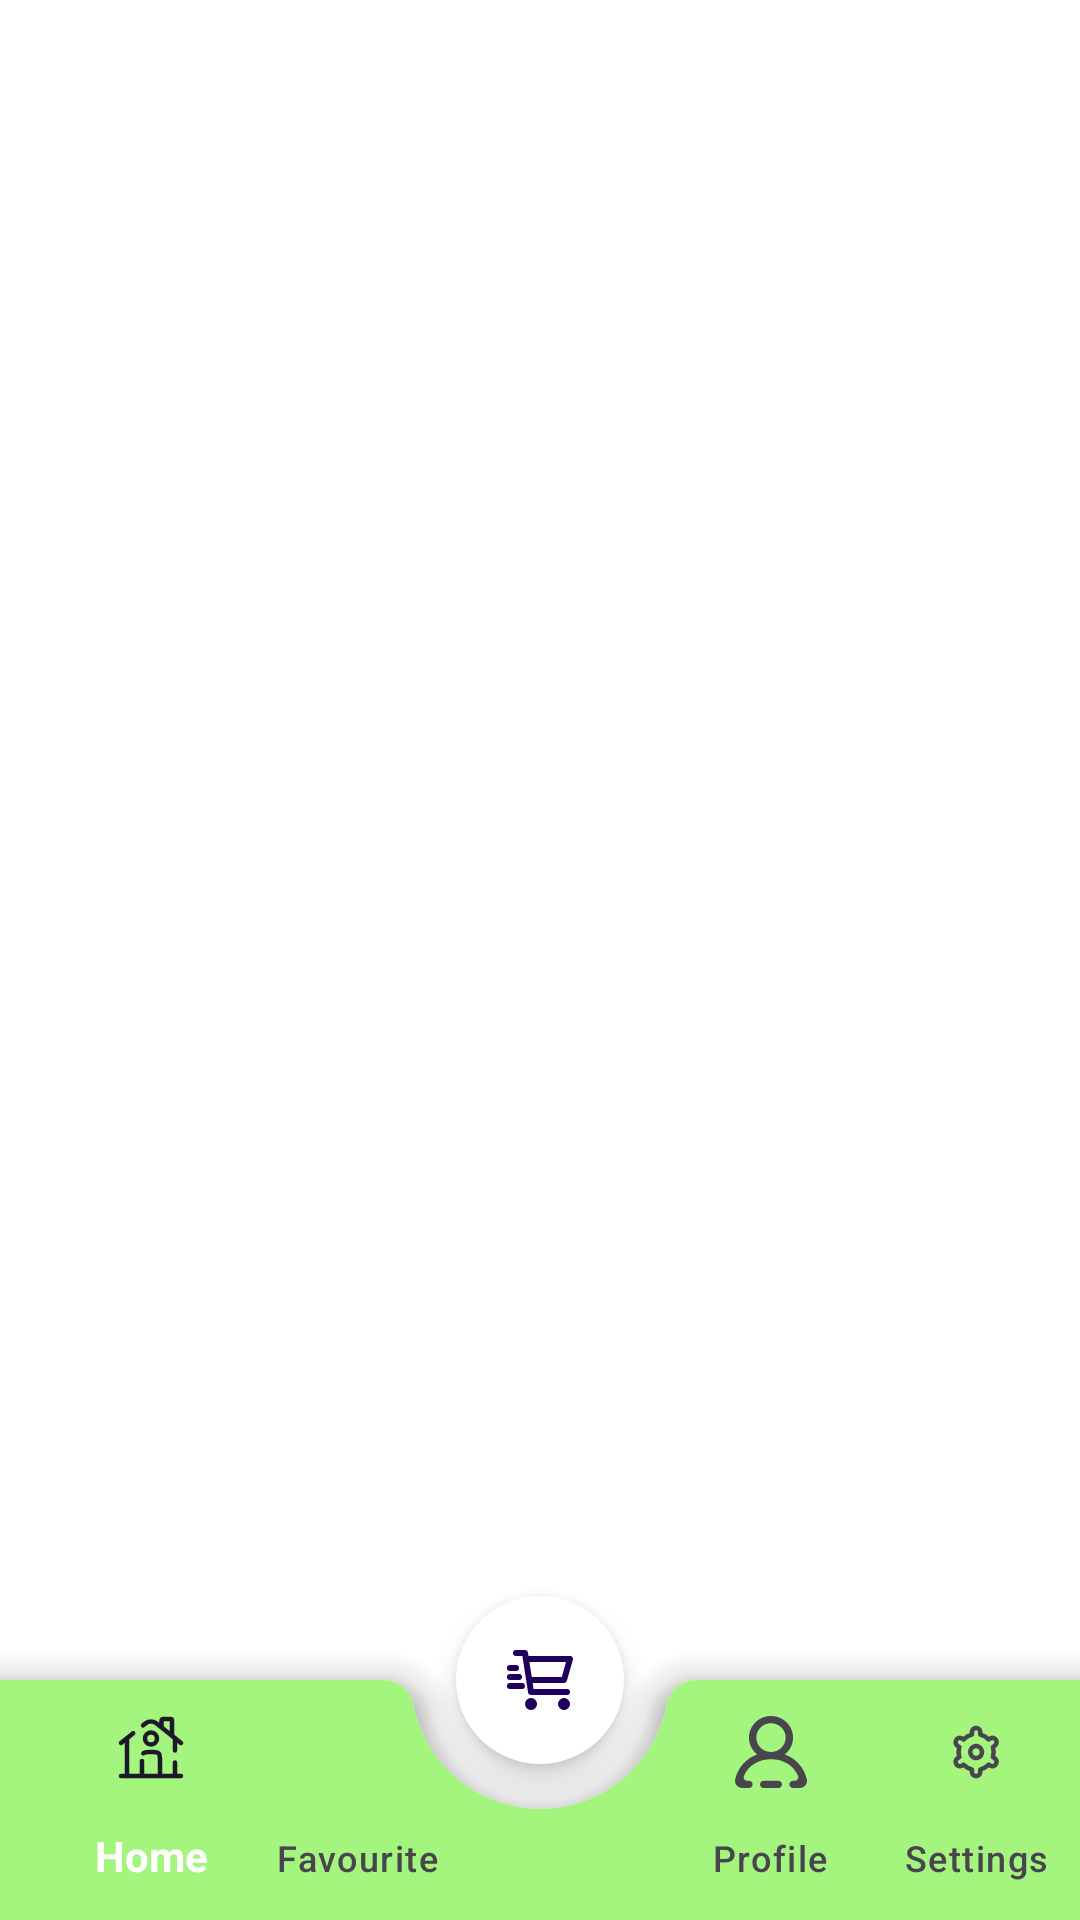

Where icons sit on this 1080px x 1920px app screen, as (x1, y1, x2, y2):
cart: (507, 1650, 624, 1710)
